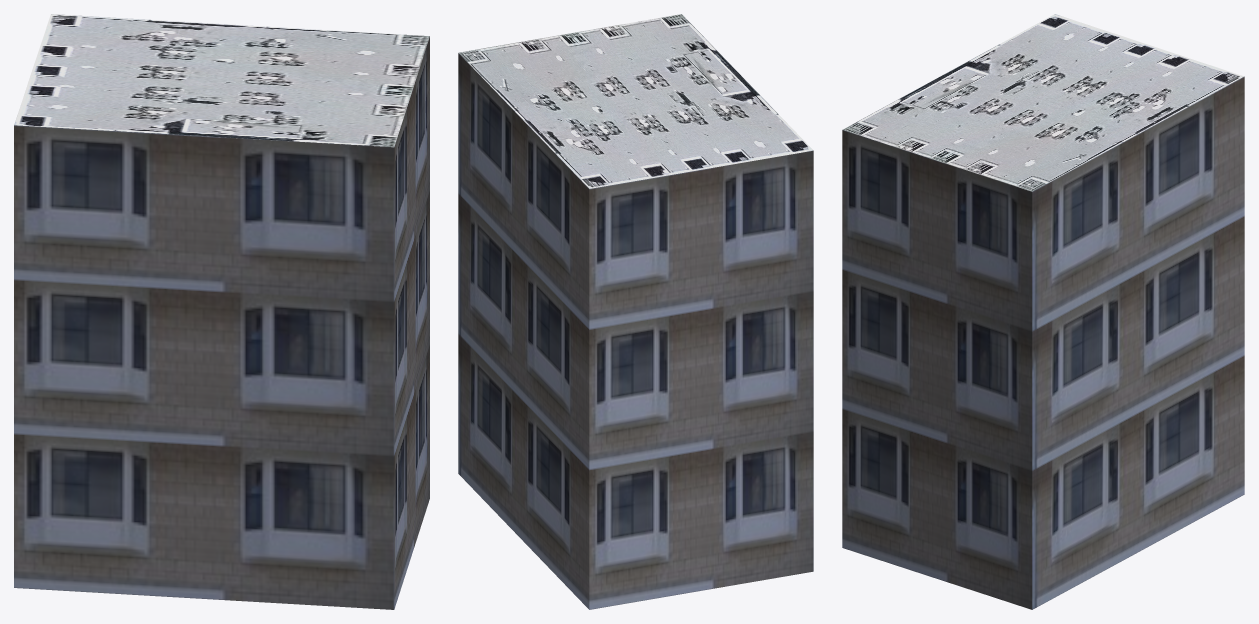
Rendered from ResTex__2130.fbx.
3 views of the same model, side by side, from view 1: azimuth 30°, elevation 25°; view 2: azimuth 150°, elevation 25°; view 3: azimuth 270°, elevation 25° (orthographic). The views are drawn at different scales.
Visible parts, largest first — view 1: CityEngineMaterial_3_m, CityEngineMaterial_m; view 2: CityEngineMaterial_3_m, CityEngineMaterial_m; view 3: CityEngineMaterial_3_m, CityEngineMaterial_m.
Part boxes in pixels (x1,y1,x2,y2): CityEngineMaterial_3_m: (14, 36, 429, 609); CityEngineMaterial_m: (14, 14, 429, 147); CityEngineMaterial_3_m: (458, 53, 813, 609); CityEngineMaterial_m: (458, 14, 813, 188); CityEngineMaterial_3_m: (842, 76, 1244, 609); CityEngineMaterial_m: (843, 14, 1244, 191).
Bounding box in the file's own units: 8.21 × 9 × 7.84.
2 materials, 2 textured.
